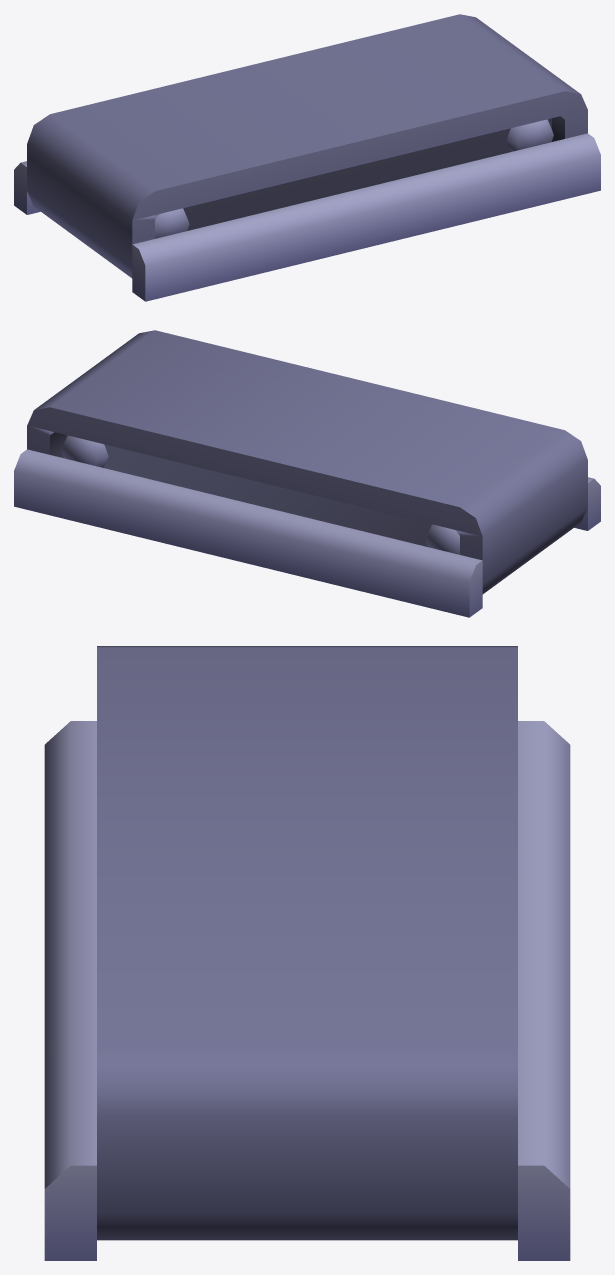
File: F_conveyor-long-sides.obj
3 views of the same model, one above another, from view 1: azimuth 30°, elevation 25°; view 2: azimuth 150°, elevation 25°; view 3: azimuth 270°, elevation 25° (orthographic). The views are drawn at different scales.
Parts seen in each view (by area): view 1: conveyor-long-sides; view 2: conveyor-long-sides; view 3: conveyor-long-sides.
Boxes of the visible parts, bbox=[...] form: conveyor-long-sides: bbox=[14, 14, 600, 301]; conveyor-long-sides: bbox=[14, 330, 600, 617]; conveyor-long-sides: bbox=[44, 646, 570, 1260].
Size of the model in its own units: 2 by 0.4 by 1.
Materials: 1 (1 with a texture image).
